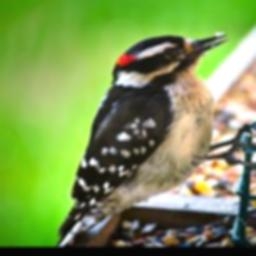Woodpecker: (55, 31, 256, 245)
